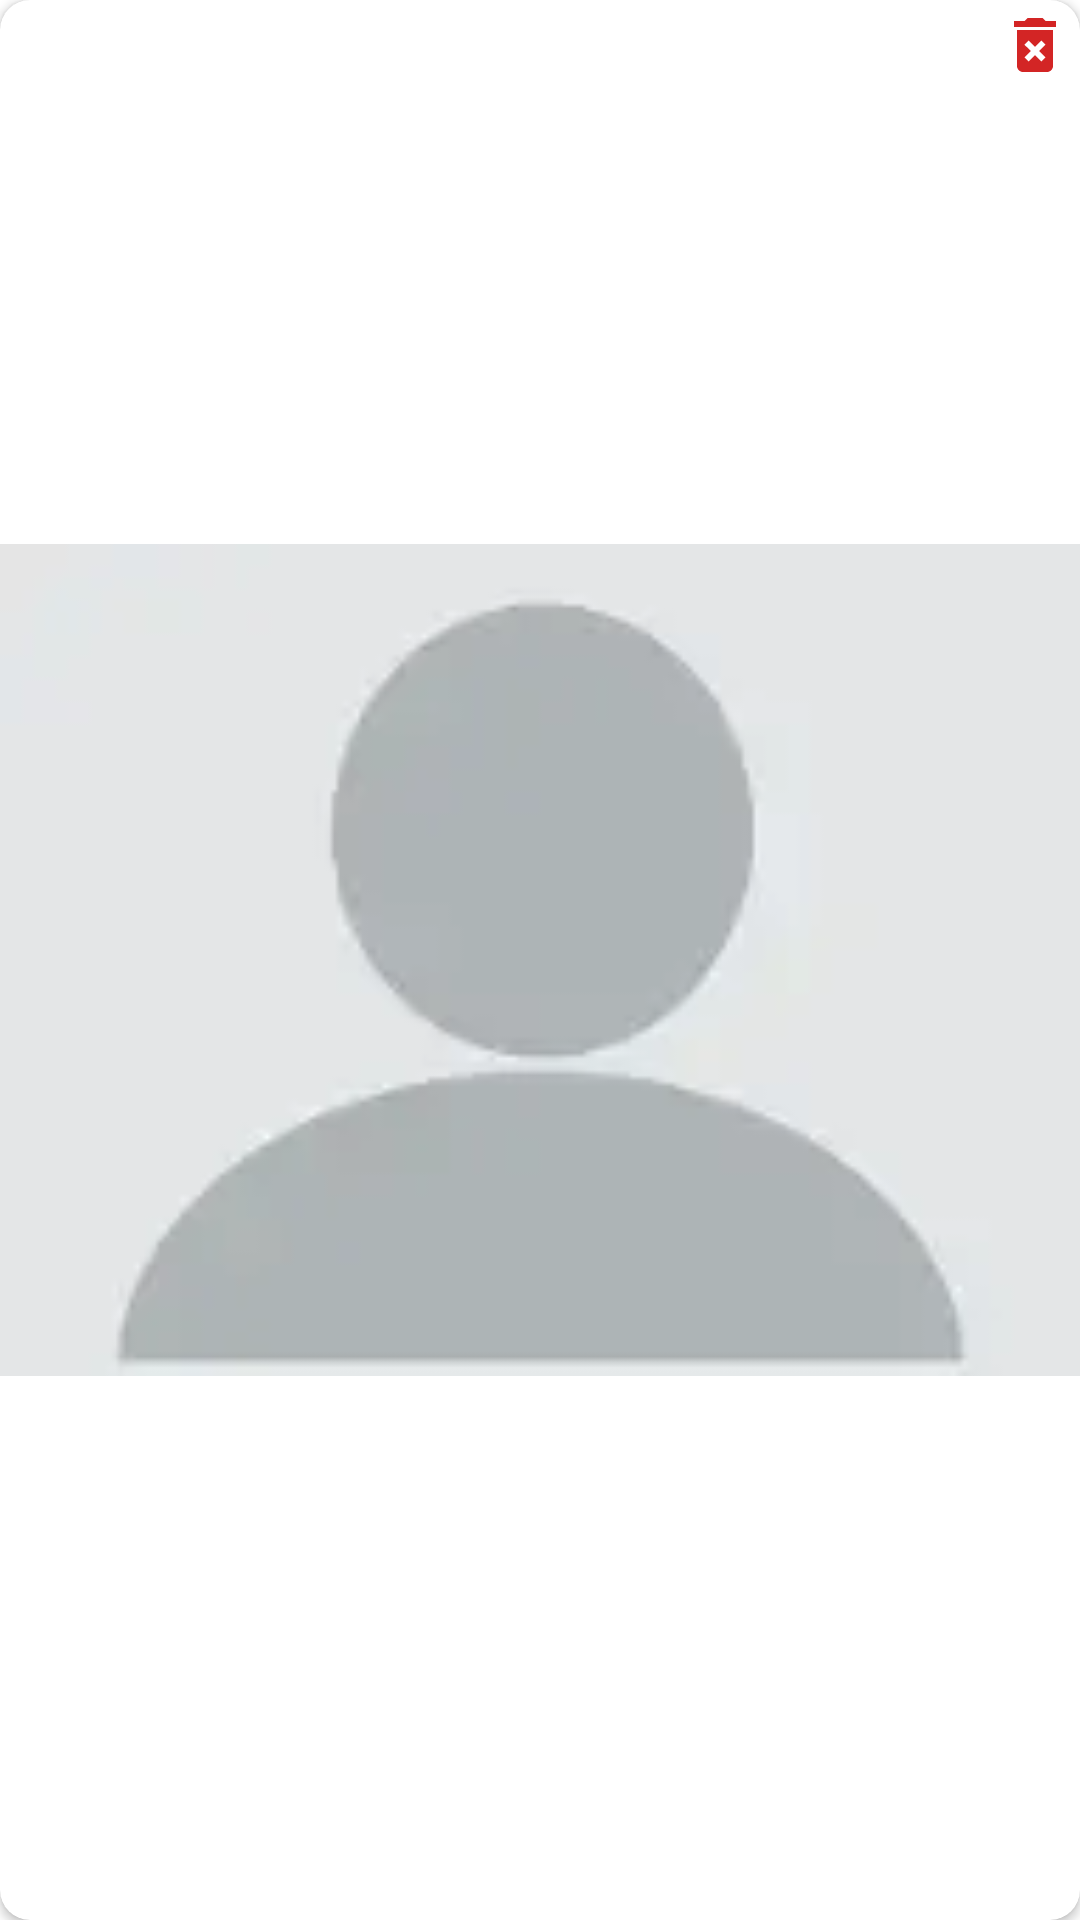

Locate icon controls on the screen. Image size 1080px x 1920px, boxes as (x1, y1, x2, y2).
delete: (1014, 0, 1080, 72)
